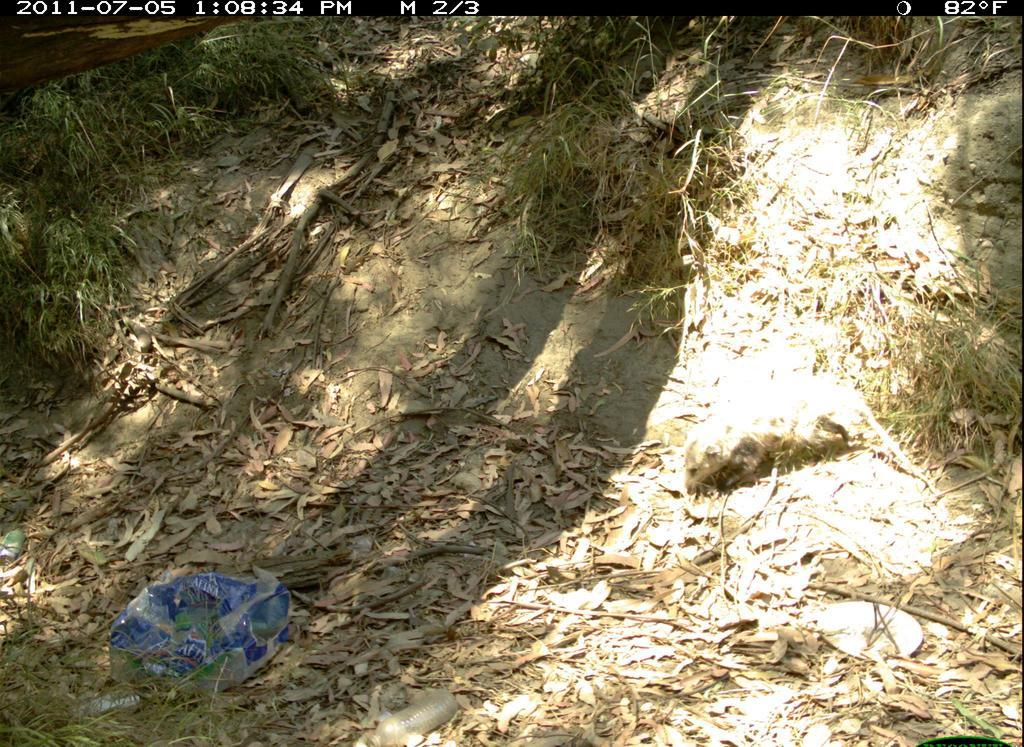opossum: (670, 374, 898, 515)
